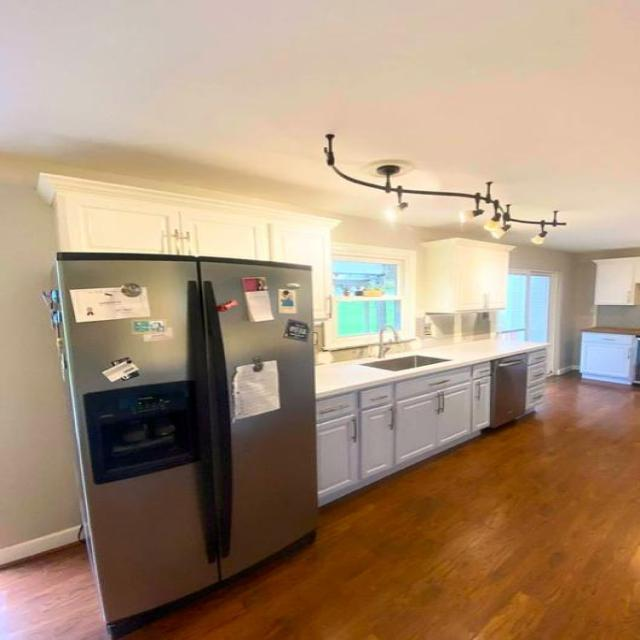dishwasher: (490, 352, 523, 426)
